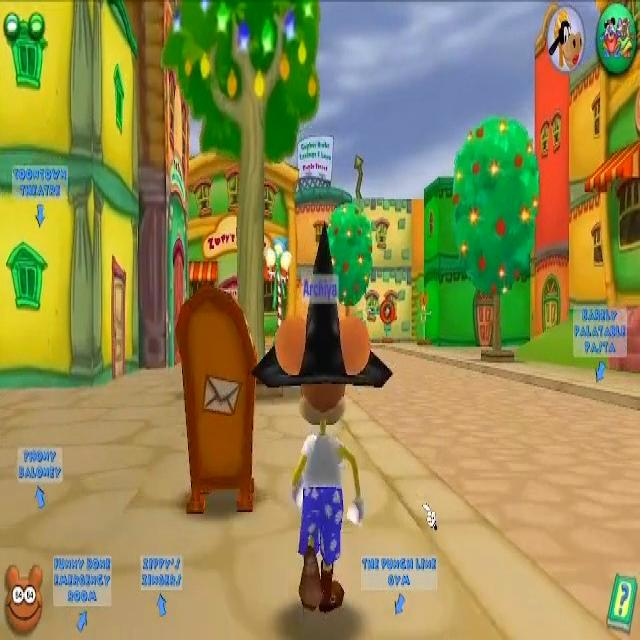telemarketer: (217, 289, 239, 337)
